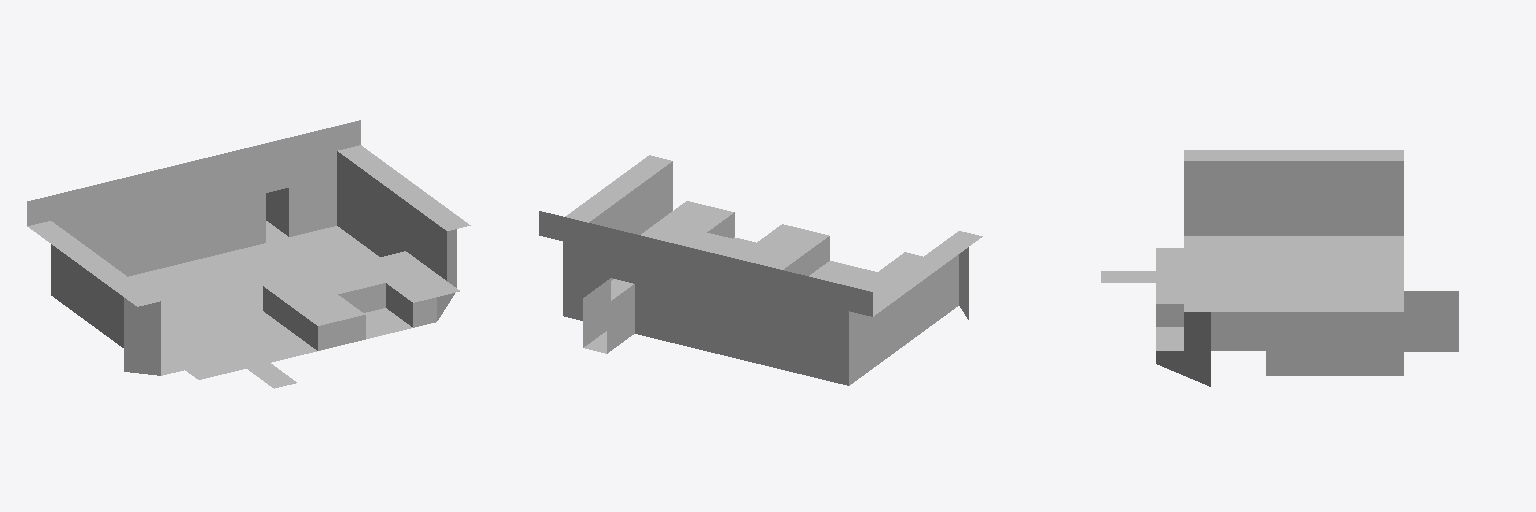
Rendered from child_library.obj.
3 renders of one model, left to right at view 1: azimuth 30°, elevation 25°; view 2: azimuth 150°, elevation 25°; view 3: azimuth 270°, elevation 25°, orthographic.
Parts seen in each view (by area): view 1: Plane; view 2: Plane; view 3: Plane.
Part boxes in pixels (bbox=[...]): Plane: bbox=[27, 120, 470, 388]; Plane: bbox=[539, 155, 982, 385]; Plane: bbox=[1101, 150, 1458, 386].
Bounding box in the file's own units: 14 × 4 × 13.